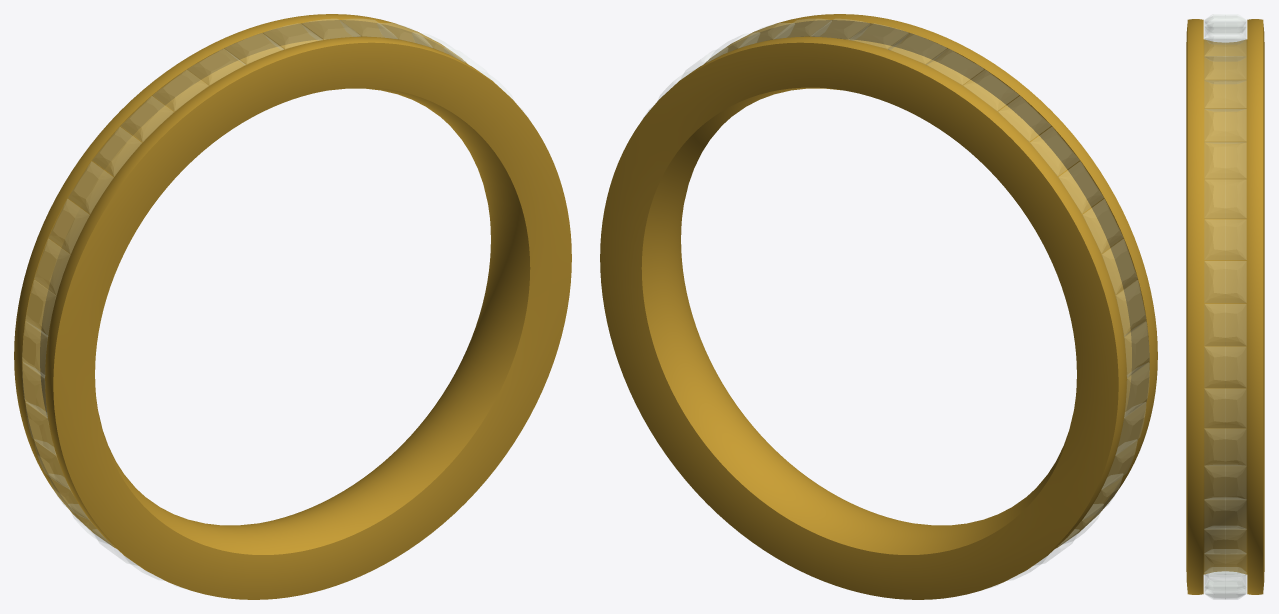
Rendered from tiana.glb.
3 views of the same model, side by side, from view 1: azimuth 30°, elevation 25°; view 2: azimuth 150°, elevation 25°; view 3: azimuth 270°, elevation 25° (orthographic). The views are drawn at different scales.
Visible parts, largest first — view 1: Mesh_42, GG_Princese.036, GG_Princese.035, GG_Princese.037, GG_Princese.034, GG_Princese.038, GG_Princese.033, GG_Princese.032, GG_Princese.039, GG_Princese.031, GG_Princese.040, GG_Princese.030 (+5 smaller); view 2: Mesh_42, GG_Princese.036, GG_Princese.035, GG_Princese.037, GG_Princese.034, GG_Princese.038, GG_Princese.033, GG_Princese.032, GG_Princese.039, GG_Princese.031, GG_Princese.040, GG_Princese.030 (+5 smaller); view 3: Mesh_42, GG_Princese.006, GG_Princese.007, GG_Princese.008, GG_Princese.005, GG_Princese.004, GG_Princese.009, GG_Princese.010, GG_Princese.003, GG_Princese.011, GG_Princese.002, GG_Princese.012 (+13 smaller).
Boxes of the visible parts, x1=… form: Mesh_42: x1=14, y1=14, x2=571, y2=599; GG_Princese.036: x1=92, y1=127, x2=141, y2=176; GG_Princese.035: x1=68, y1=161, x2=113, y2=213; GG_Princese.037: x1=121, y1=96, x2=173, y2=141; GG_Princese.034: x1=49, y1=199, x2=89, y2=253; GG_Princese.038: x1=153, y1=70, x2=208, y2=111; GG_Princese.033: x1=34, y1=239, x2=69, y2=294; GG_Princese.032: x1=26, y1=280, x2=55, y2=336; GG_Princese.039: x1=188, y1=49, x2=245, y2=85; GG_Princese.031: x1=22, y1=322, x2=47, y2=377; GG_Princese.040: x1=225, y1=33, x2=283, y2=64; GG_Princese.030: x1=22, y1=363, x2=47, y2=417; Mesh_42: x1=600, y1=14, x2=1157, y2=599; GG_Princese.036: x1=1030, y1=127, x2=1079, y2=176; GG_Princese.035: x1=1058, y1=161, x2=1103, y2=213; GG_Princese.037: x1=998, y1=96, x2=1050, y2=141; GG_Princese.034: x1=1082, y1=199, x2=1122, y2=253; GG_Princese.038: x1=963, y1=70, x2=1018, y2=111; GG_Princese.033: x1=1102, y1=239, x2=1137, y2=294; GG_Princese.032: x1=1116, y1=280, x2=1145, y2=336; GG_Princese.039: x1=926, y1=49, x2=983, y2=85; GG_Princese.031: x1=1124, y1=322, x2=1149, y2=377; GG_Princese.040: x1=888, y1=33, x2=946, y2=64; GG_Princese.030: x1=1124, y1=363, x2=1149, y2=417; Mesh_42: x1=1186, y1=19, x2=1264, y2=594; GG_Princese.006: x1=1204, y1=261, x2=1246, y2=302; GG_Princese.007: x1=1204, y1=304, x2=1246, y2=345; GG_Princese.008: x1=1204, y1=346, x2=1246, y2=387; GG_Princese.005: x1=1204, y1=219, x2=1246, y2=259; GG_Princese.004: x1=1204, y1=179, x2=1246, y2=218; GG_Princese.009: x1=1204, y1=388, x2=1246, y2=427; GG_Princese.010: x1=1204, y1=428, x2=1246, y2=465; GG_Princese.003: x1=1204, y1=142, x2=1246, y2=178; GG_Princese.011: x1=1204, y1=465, x2=1246, y2=499; GG_Princese.002: x1=1204, y1=109, x2=1246, y2=142; GG_Princese.012: x1=1204, y1=498, x2=1246, y2=528.
Size of the model in its own units: 7.74 by 7.74 by 1.03.
